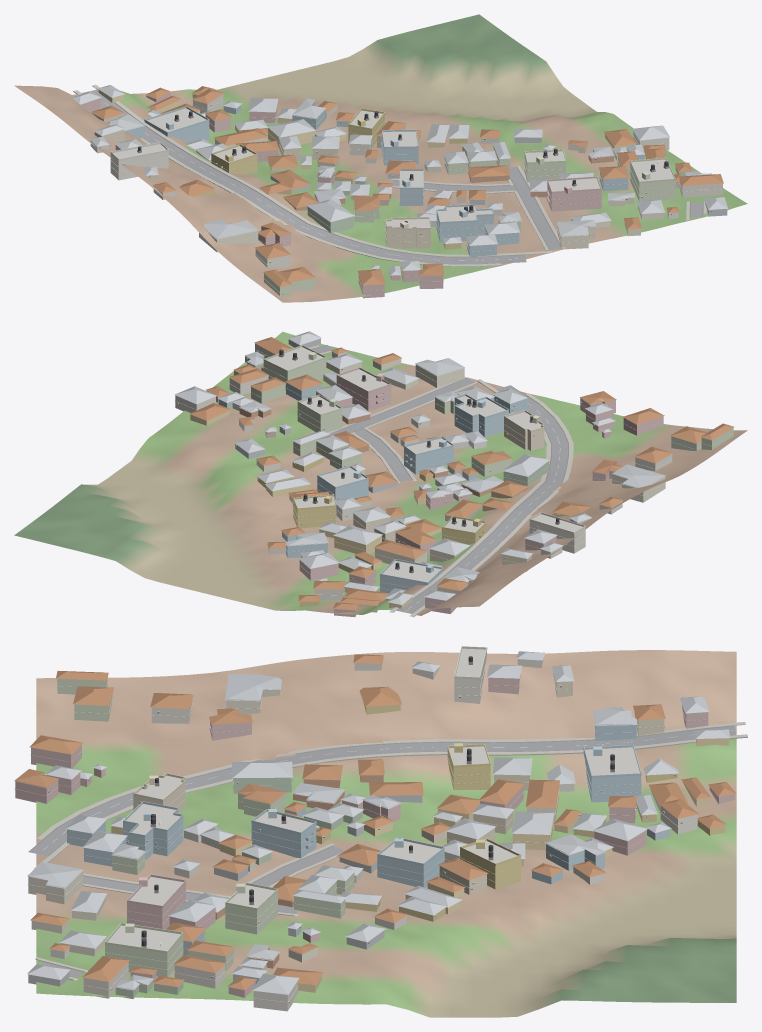
3 views of the same model, one above another, from view 1: azimuth 30°, elevation 25°; view 2: azimuth 150°, elevation 25°; view 3: azimuth 270°, elevation 25° (orthographic). The views are drawn at different scales.
Visible parts, largest first — view 1: Terrain-col, Buildings-col, Roads-col, Details, Sidewalks-col; view 2: Terrain-col, Buildings-col, Details, Roads-col, Sidewalks-col; view 3: Terrain-col, Buildings-col, Details, Roads-col, Sidewalks-col.
Boxes of the visible parts, bbox=[...] form: Terrain-col: bbox=[14, 14, 747, 302]; Buildings-col: bbox=[71, 85, 728, 298]; Roads-col: bbox=[91, 89, 703, 264]; Details: bbox=[87, 99, 722, 294]; Sidewalks-col: bbox=[73, 84, 706, 266]; Terrain-col: bbox=[14, 331, 747, 615]; Buildings-col: bbox=[174, 331, 734, 616]; Details: bbox=[175, 345, 733, 605]; Roads-col: bbox=[311, 345, 568, 613]; Sidewalks-col: bbox=[308, 345, 573, 617]; Terrain-col: bbox=[36, 650, 736, 1017]; Buildings-col: bbox=[14, 648, 736, 1011]; Details: bbox=[15, 646, 708, 1003]; Roads-col: bbox=[28, 725, 735, 977]; Sidewalks-col: bbox=[33, 722, 747, 980].
Size of the model in its own units: 263 by 32.29 by 268.
